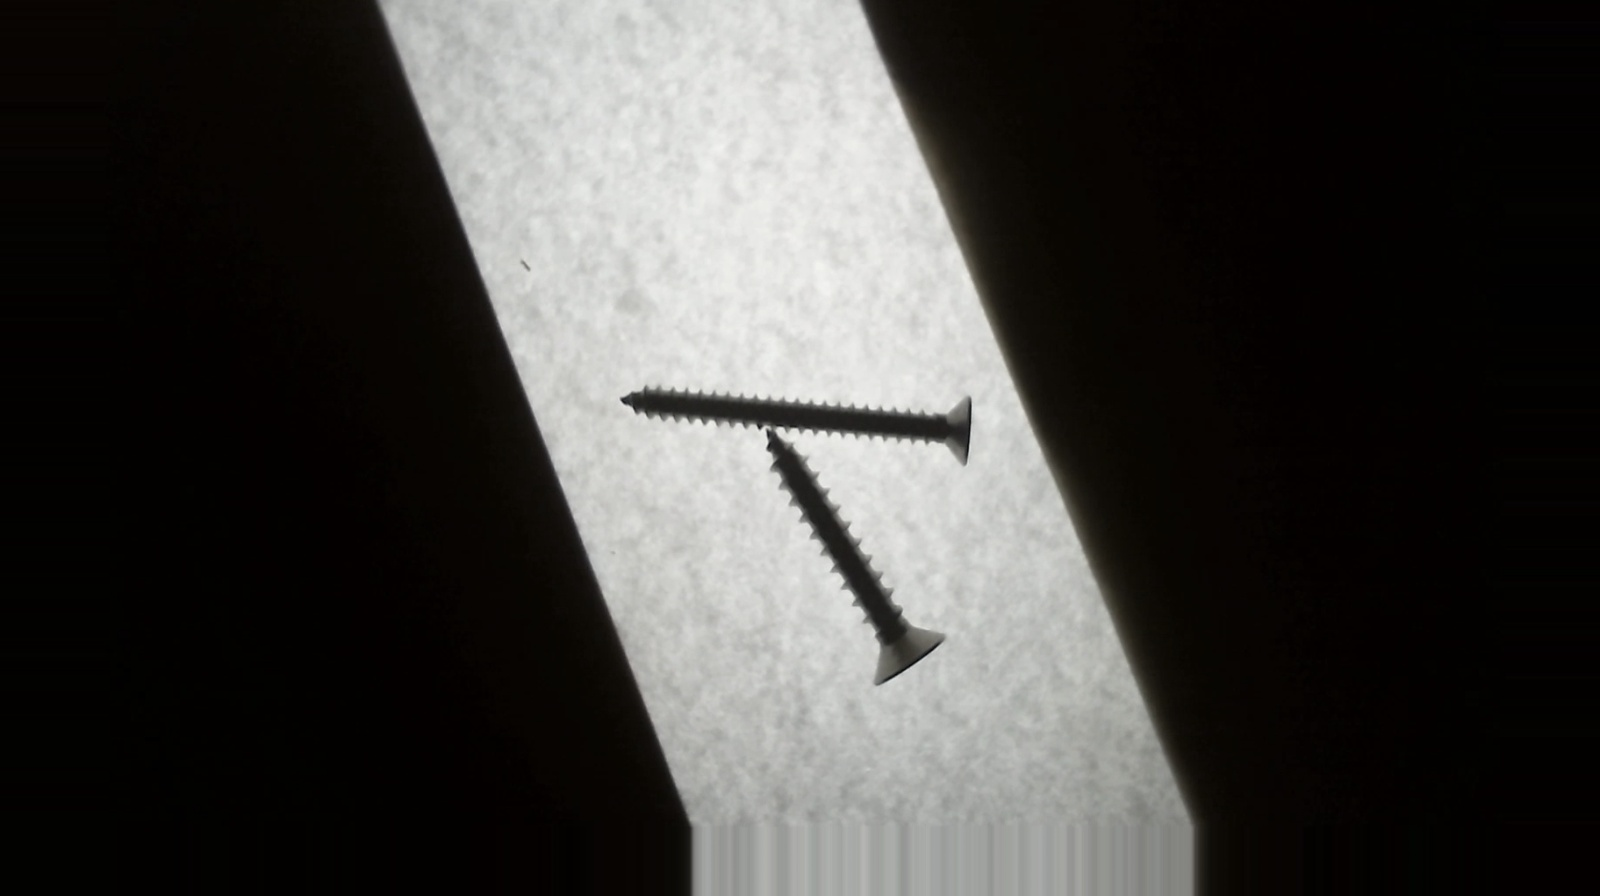S001: (759, 422, 948, 689)
S002: (621, 379, 980, 468)
